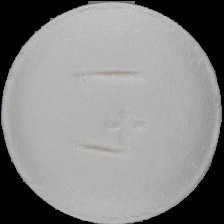33261-848: (0, 0, 224, 224)
